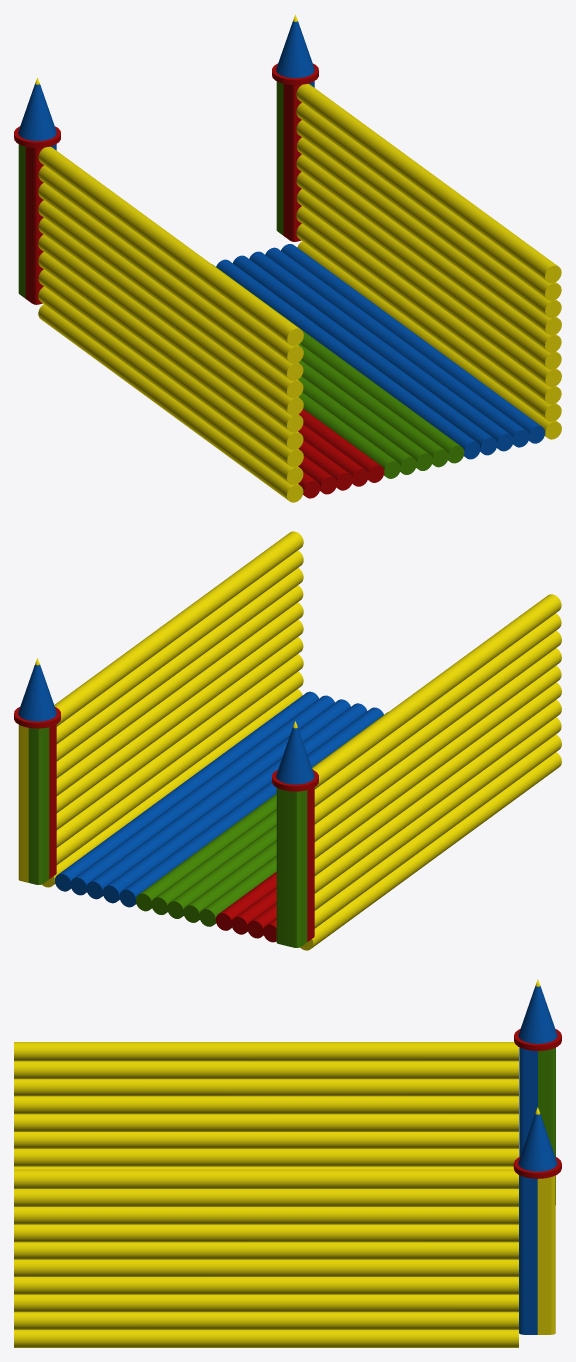
The model's file is Main Walls.fbx.
3 views of the same model, one above another, from view 1: azimuth 30°, elevation 25°; view 2: azimuth 150°, elevation 25°; view 3: azimuth 270°, elevation 25° (orthographic).
Visible parts, largest first — view 1: Main_Bouncy_Castle; view 2: Main_Bouncy_Castle; view 3: Main_Bouncy_Castle.
Boxes of the visible parts, x1=… form: Main_Bouncy_Castle: x1=14, y1=14, x2=561, y2=502; Main_Bouncy_Castle: x1=14, y1=531, x2=561, y2=950; Main_Bouncy_Castle: x1=14, y1=979, x2=561, y2=1347.
Bounding box in the file's own units: 72.04 × 54.46 × 113.
